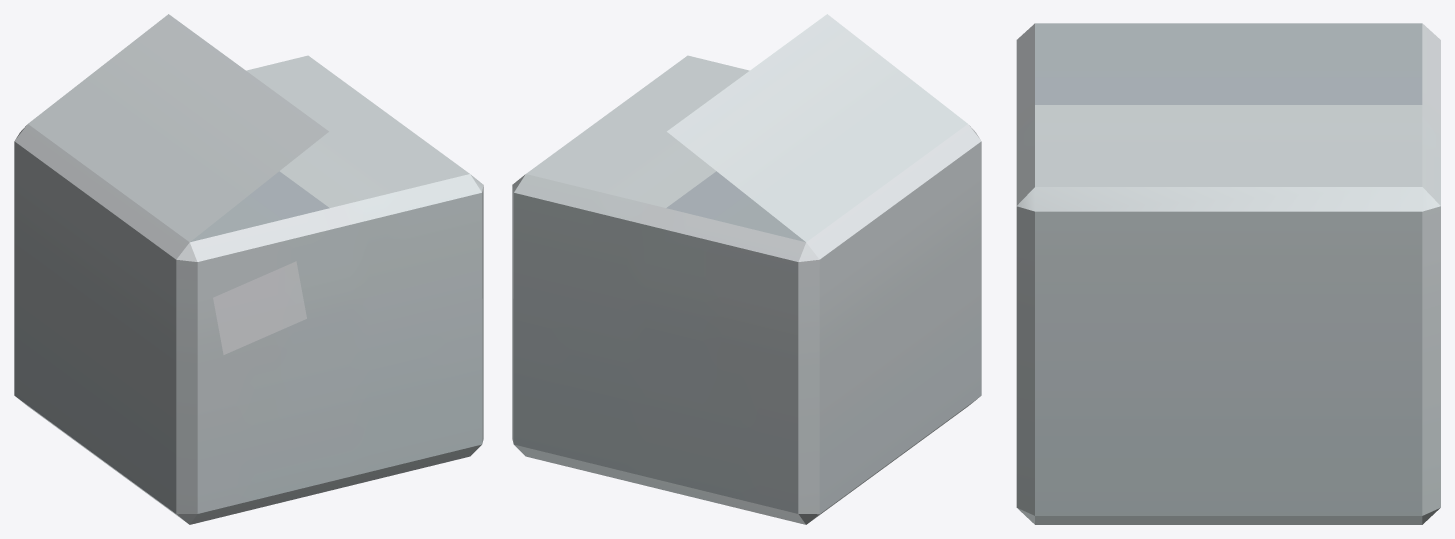
The model's file is crate.glb.
The picture shows the model from 3 angles, left to right: view 1: azimuth 30°, elevation 25°; view 2: azimuth 150°, elevation 25°; view 3: azimuth 270°, elevation 25°; orthographic projection. The views are drawn at different scales.
Visible parts, largest first — view 1: Box_A; view 2: Box_A; view 3: Box_A.
Part boxes in pixels (bbox=[...]): Box_A: bbox=[14, 14, 483, 524]; Box_A: bbox=[512, 14, 981, 524]; Box_A: bbox=[1016, 23, 1440, 524].
Bounding box in the file's own units: 0.4562 × 0.5089 × 0.4632.
1 material, 1 textured.
